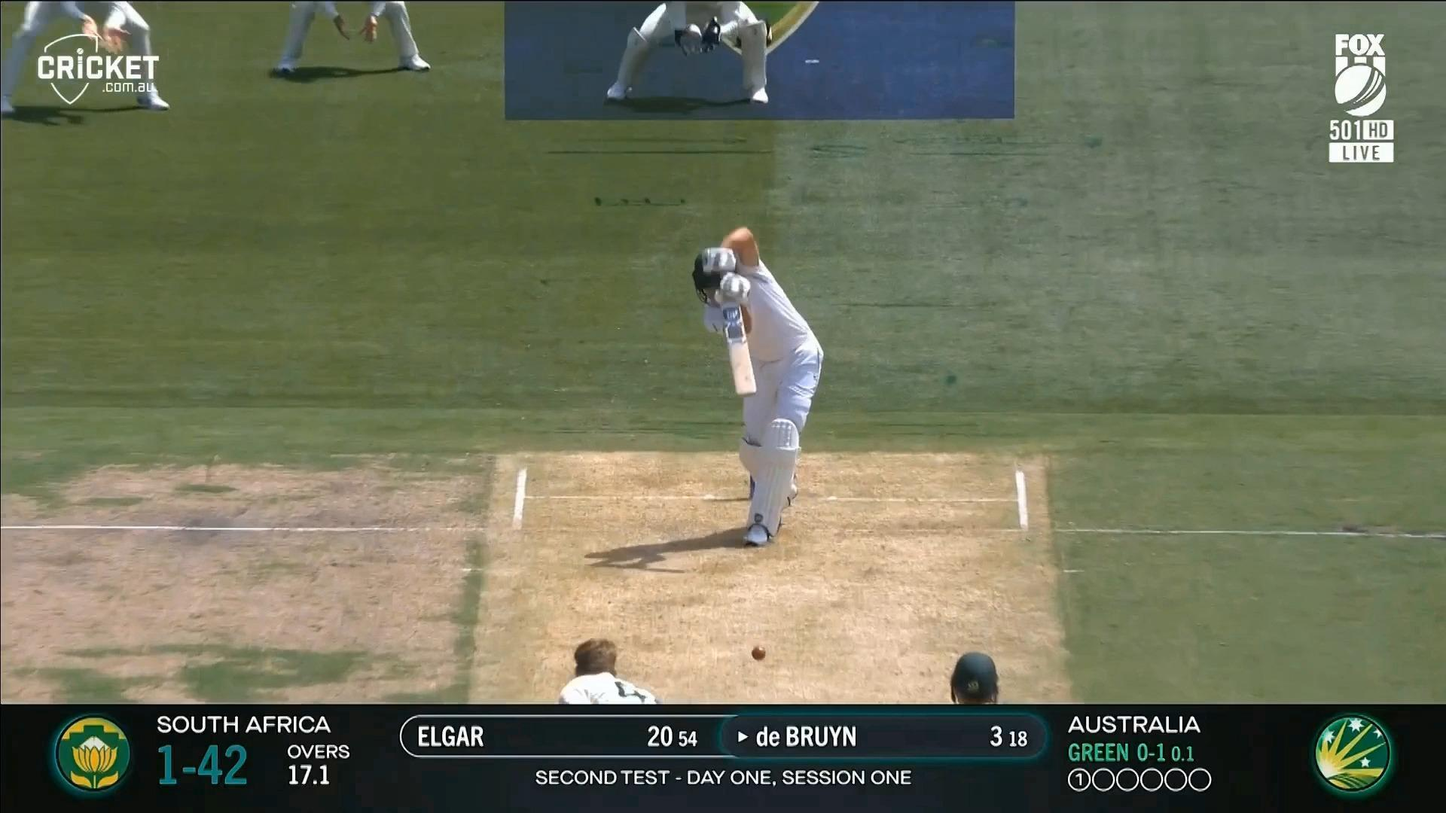BM 1: (691, 224, 826, 548)
BO: (554, 636, 666, 705)
